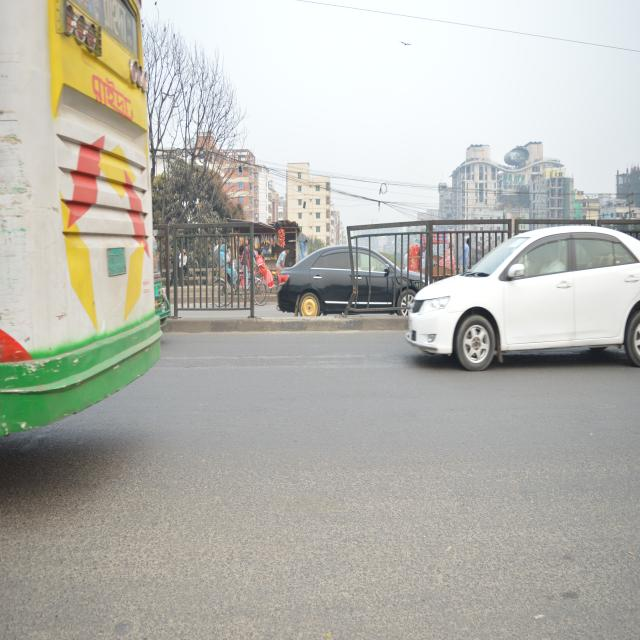bus: (0, 7, 181, 455)
car: (397, 226, 640, 391), (266, 238, 435, 338)
